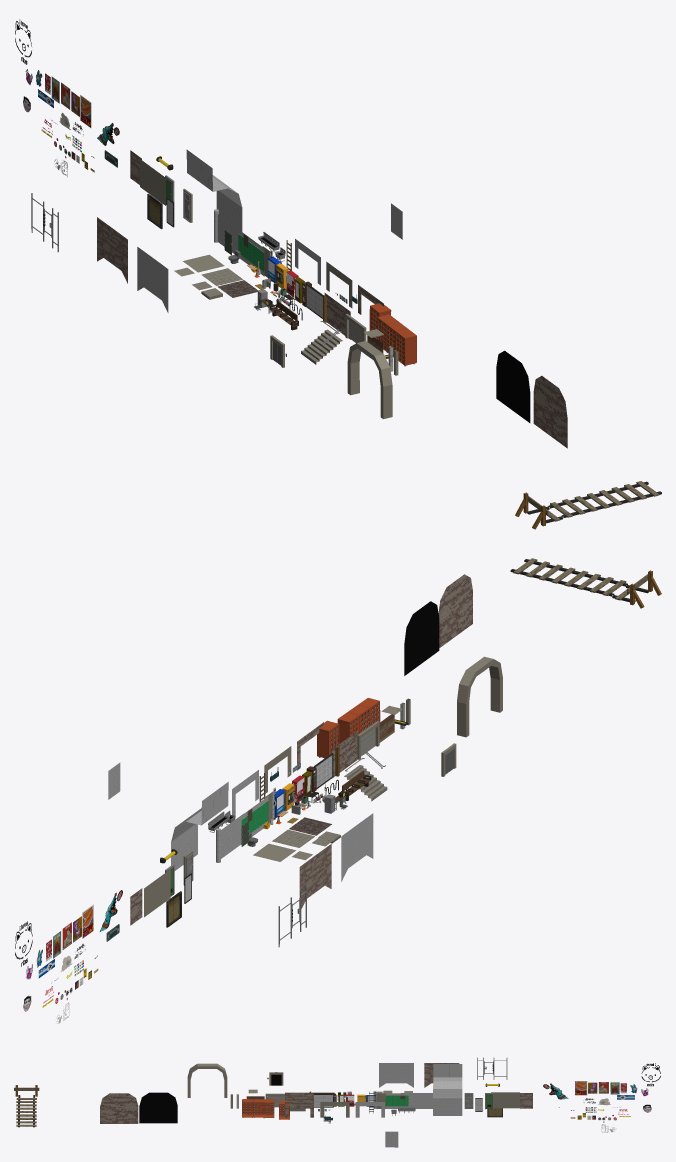
File: Subway.fbx
The picture shows the model from 3 angles, top to bottom: view 1: azimuth 30°, elevation 25°; view 2: azimuth 150°, elevation 25°; view 3: azimuth 270°, elevation 25°; orthographic projection. The views are drawn at different scales.
Parts seen in each view (by area): view 1: tunle end bricks, tunnel void, tunle.002, subway wall .004, track long, tunle toper subway, tunle toper bricks, Cement wall; view 2: tunnel void, tunle end bricks, subway wall .004, tunle.002, track long, tunle toper subway, tunle toper bricks, locker.002, Cement wall; view 3: subway wall .004, tunnel void, tunle end bricks, tunle toper subway, track long, Cement wall, tunle.002, locker.002, subway wall, subway wall .001, big wall, tunle toper bricks (+13 smaller).
Part boxes in pixels (left/top/right/bottom): tunle end bricks: left=533, top=376, right=567, bottom=448; tunnel void: left=496, top=350, right=530, bottom=422; tunle.002: left=347, top=341, right=392, bottom=419; subway wall .004: left=186, top=149, right=242, bottom=231; track long: left=548, top=481, right=661, bottom=518; tunle toper subway: left=137, top=247, right=168, bottom=312; tunle toper bricks: left=97, top=217, right=127, bottom=283; Cement wall: left=140, top=159, right=165, bottom=205; tunnel void: left=404, top=601, right=439, bottom=675; tunle end bricks: left=438, top=574, right=472, bottom=647; subway wall .004: left=171, top=782, right=228, bottom=870; tunle.002: left=457, top=656, right=502, bottom=737; track long: left=510, top=558, right=627, bottom=596; tunle toper subway: left=341, top=813, right=373, bottom=881; tunle toper bricks: left=299, top=844, right=331, bottom=908; locker.002: left=337, top=705, right=369, bottom=743; Cement wall: left=144, top=869, right=170, bottom=917; subway wall .004: left=433, top=1064, right=462, bottom=1115; tunnel void: left=139, top=1092, right=177, bottom=1123; tunle end bricks: left=100, top=1093, right=138, bottom=1123; tunle toper subway: left=379, top=1063, right=413, bottom=1087; track long: left=16, top=1100, right=36, bottom=1127; Cement wall: left=491, top=1092, right=519, bottom=1108; tunle.002: left=187, top=1063, right=227, bottom=1097; locker.002: left=253, top=1099, right=274, bottom=1118; subway wall: left=408, top=1093, right=432, bottom=1108; subway wall .001: left=385, top=1093, right=411, bottom=1108; big wall: left=285, top=1092, right=313, bottom=1108; tunle toper bricks: left=424, top=1063, right=459, bottom=1087.
Bounding box in the file's own units: 2929 × 1334 × 11106.
